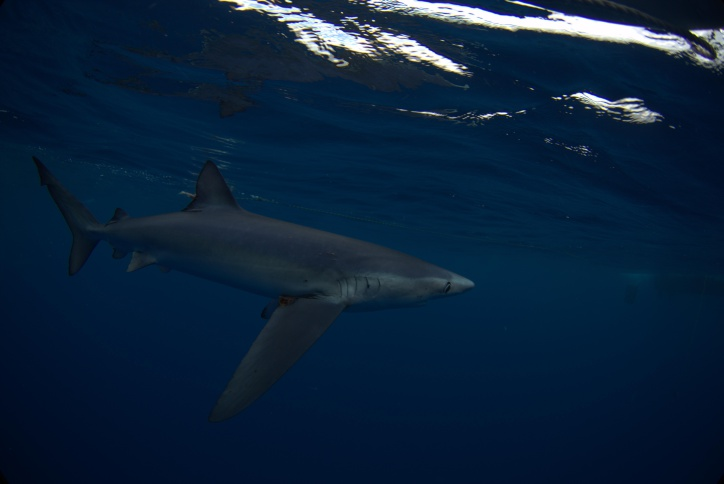Azul: (22, 135, 486, 415)
